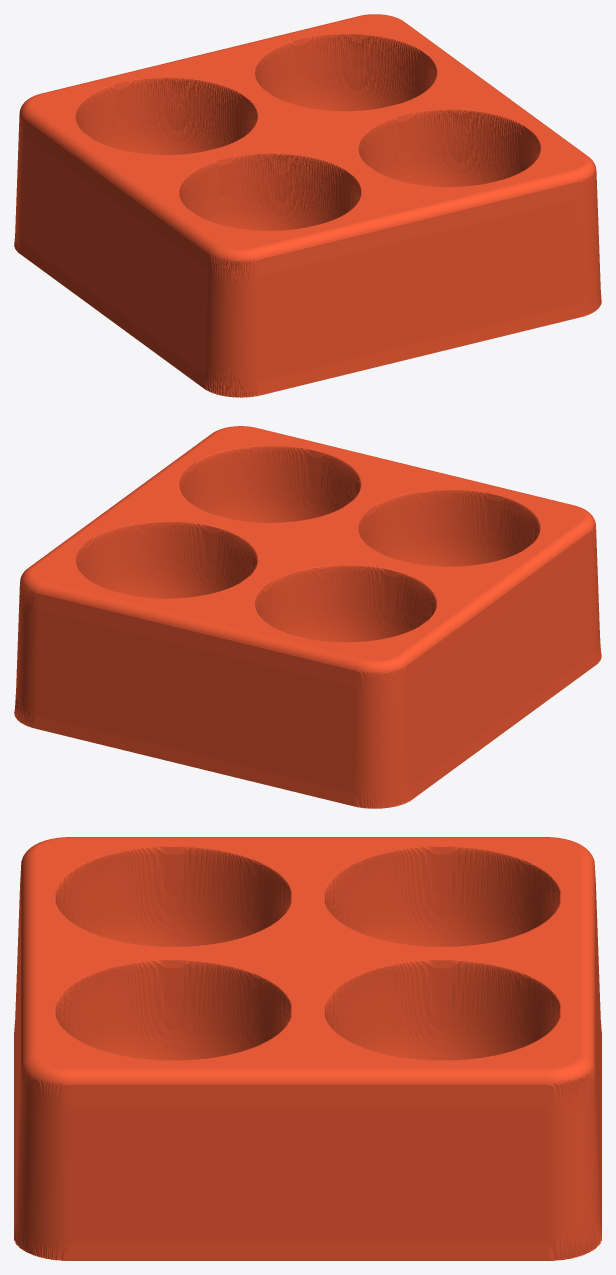
File: mold.glb
The picture shows the model from 3 angles, top to bottom: view 1: azimuth 30°, elevation 25°; view 2: azimuth 150°, elevation 25°; view 3: azimuth 270°, elevation 25°; orthographic projection. The views are drawn at different scales.
Parts seen in each view (by area): view 1: geometry_0; view 2: geometry_0; view 3: geometry_0.
Part boxes in pixels (left/top/right/bottom): geometry_0: left=14, top=14, right=601, bottom=397; geometry_0: left=14, top=426, right=601, bottom=808; geometry_0: left=14, top=837, right=601, bottom=1260.
Bounding box in the file's own units: 0.0962 × 0.0331 × 0.0962.
